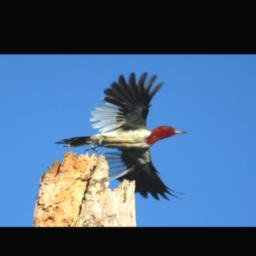Woodpecker: (53, 71, 188, 201)
